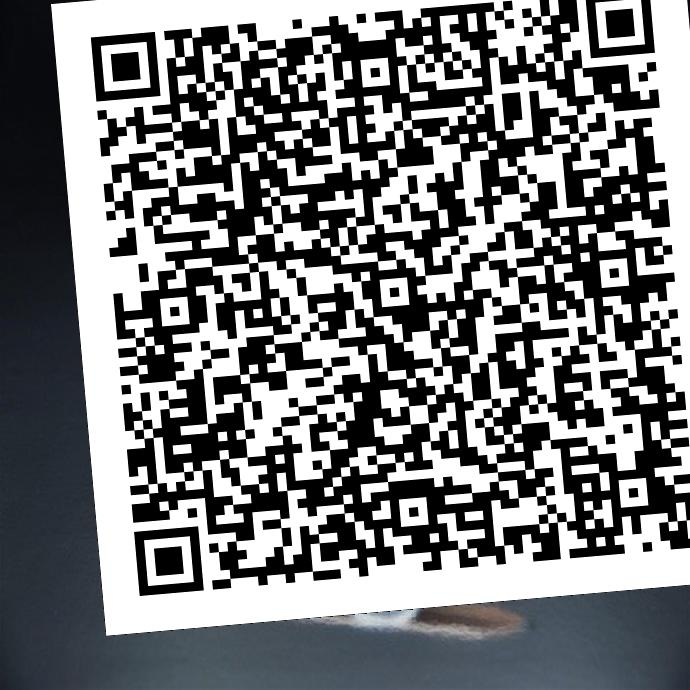qr_code: (51, 0, 689, 636)
